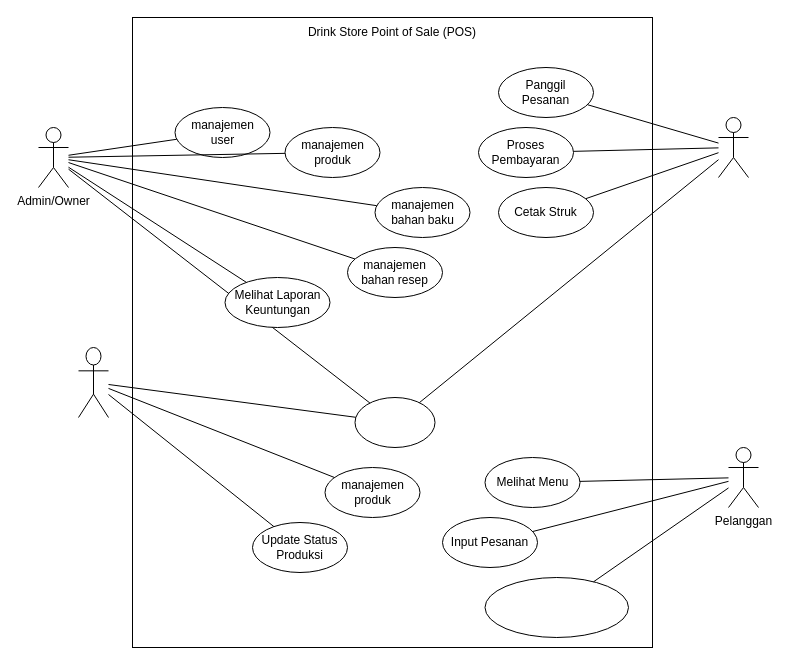
This 789x665 diagram has some shape labels left out. Each missing label, with the box of its shape:
Barista: (78, 346, 108, 418)
Checkout & Generate Order ID: (484, 576, 628, 638)
Kasir: (718, 116, 748, 178)
login: (354, 396, 435, 448)
